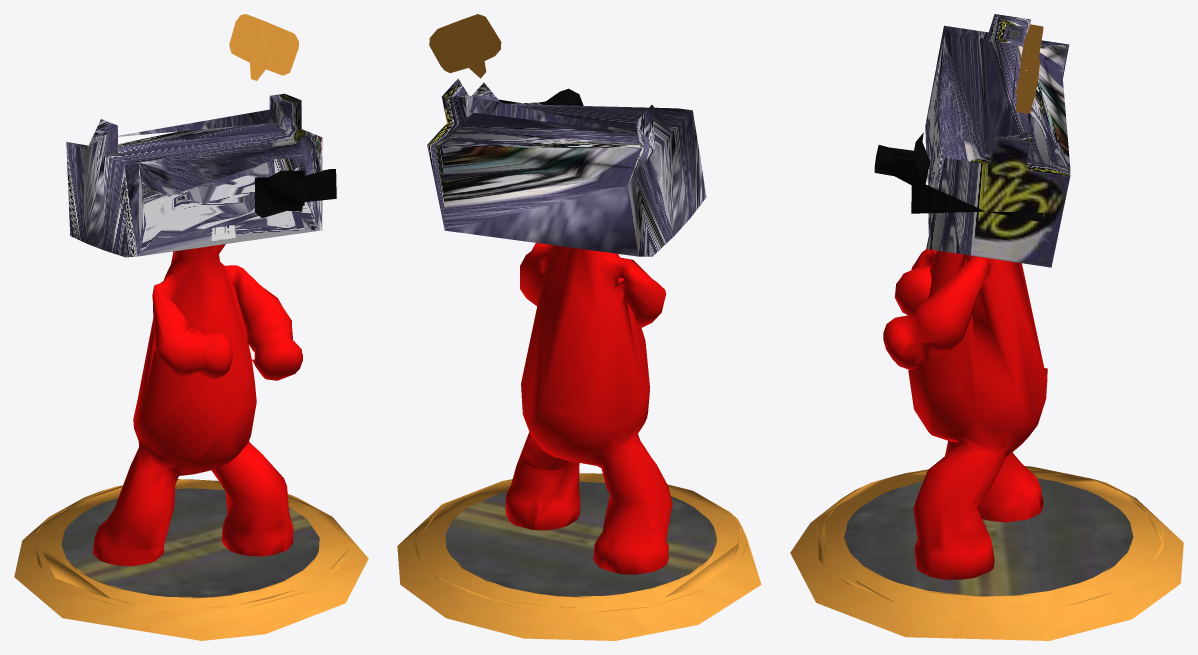
The picture shows the model from 3 angles, left to right: view 1: azimuth 30°, elevation 25°; view 2: azimuth 150°, elevation 25°; view 3: azimuth 270°, elevation 25°; orthographic projection. The views are drawn at different scales.
Bounding box in the file's own units: 1.39 × 2.31 × 1.43.
6 materials, 3 textured.
